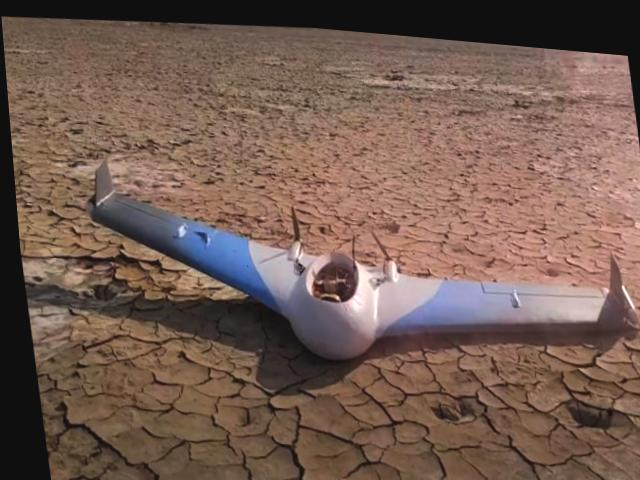iha: (71, 123, 640, 389)
